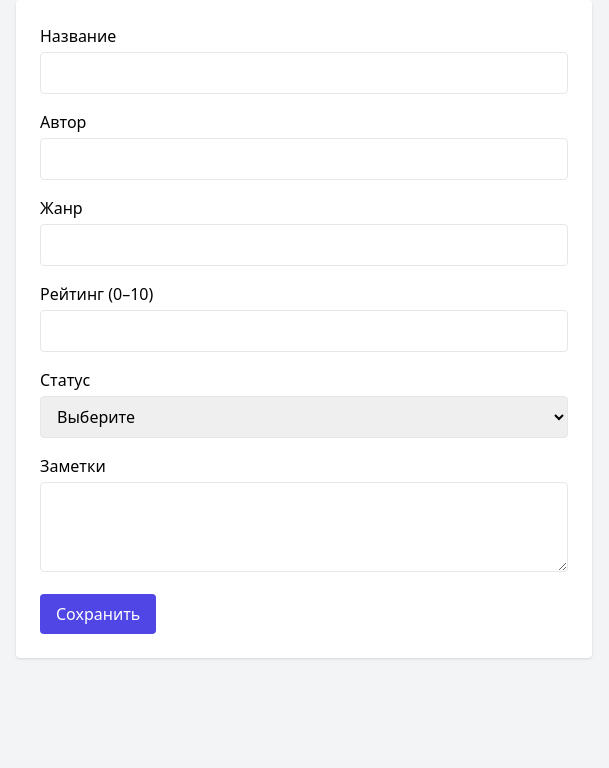
BookForm › показывает ошибку, если не введено название книги
Click the button "Сохранить" at (98, 614), box [40, 594, 156, 634]
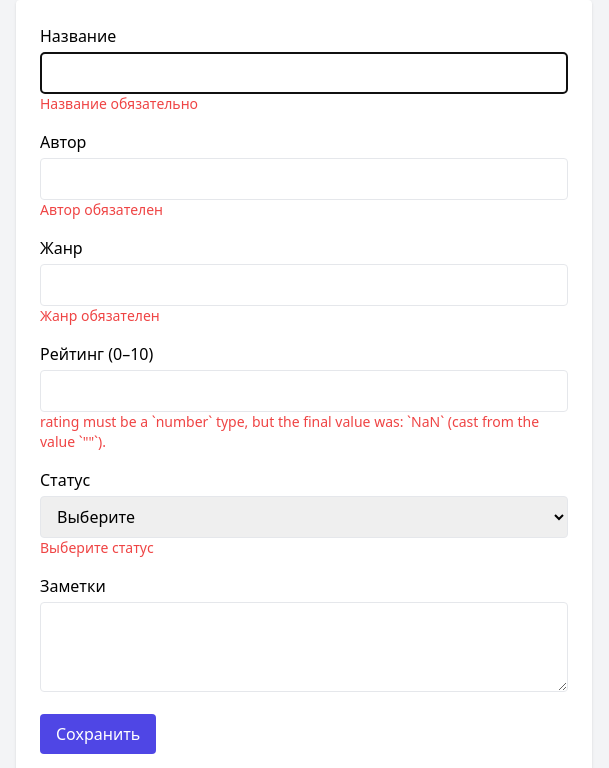
expect the text "Название обязательно" is shown: met, box [40, 94, 198, 113]
